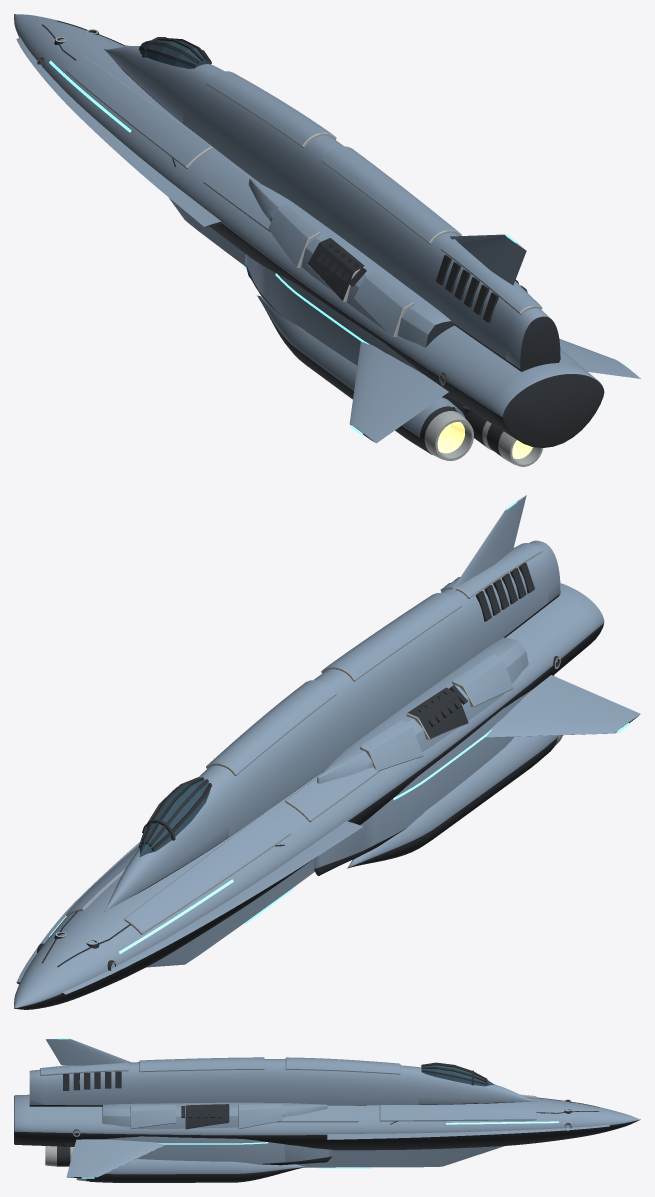
Rendered from osprey.glb.
3 views of the same model, one above another, from view 1: azimuth 30°, elevation 25°; view 2: azimuth 150°, elevation 25°; view 3: azimuth 270°, elevation 25° (orthographic). The views are drawn at different scales.
Parts seen in each view (by area): view 1: Hull_Osprey; view 2: Hull_Osprey; view 3: Hull_Osprey.
Part boxes in pixels (x1,y1,x2,y2): Hull_Osprey: (14,14,640,466); Hull_Osprey: (14,495,640,1009); Hull_Osprey: (14,1038,640,1182).
Size of the model in its own units: 34.44 by 27.55 by 120.
